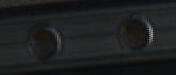joints: (113, 13, 155, 50), (26, 22, 63, 63)
